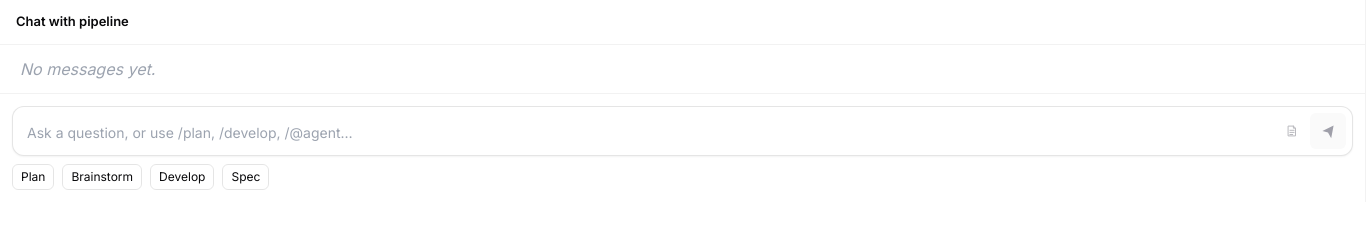
Test case: ChatPane › /plan --backend=foo shows an actionable parse error
This screenshot has width=1366, height=251.
Type "/plan --backend=foo #42" into the text box with test id "chat-input" at [644, 132], box [19,116,1270,148]
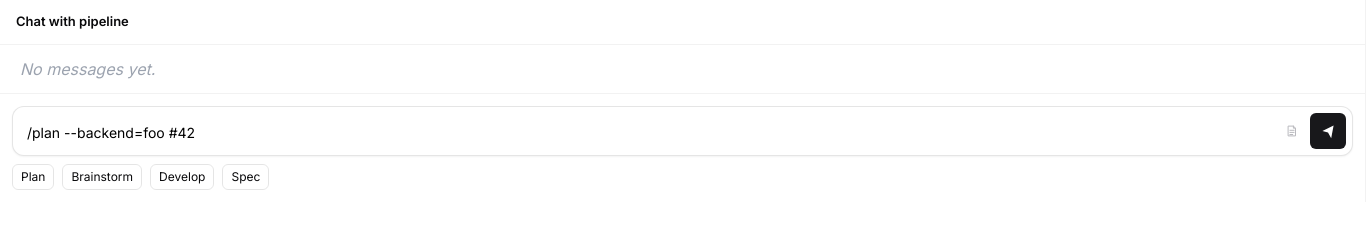
Click the button with test id "chat-send" at [1328, 130], box [1310,112,1346,148]
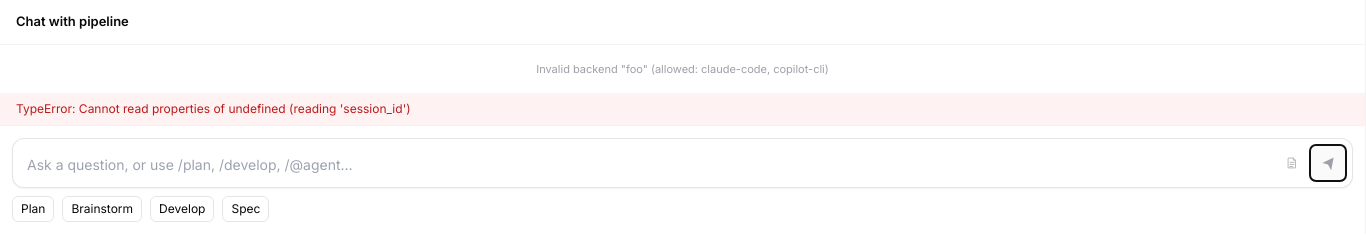
Now the text with test id "chat-message-system" shows "foo", box [536,62,829,76]
Now the text with test id "chat-message-system" shows "allowed", box [536,62,829,76]
